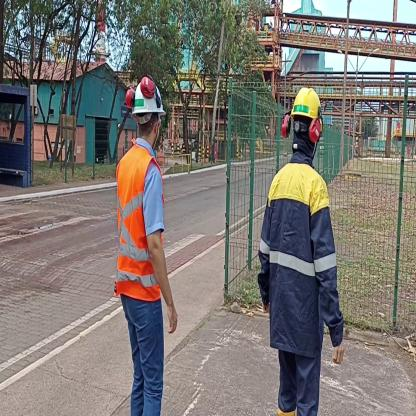Balaclava: (292, 116, 317, 158)
C_eletrica: (256, 165, 346, 357)
Capacete: (131, 76, 165, 114), (290, 84, 323, 120)
colete: (114, 150, 166, 301)
